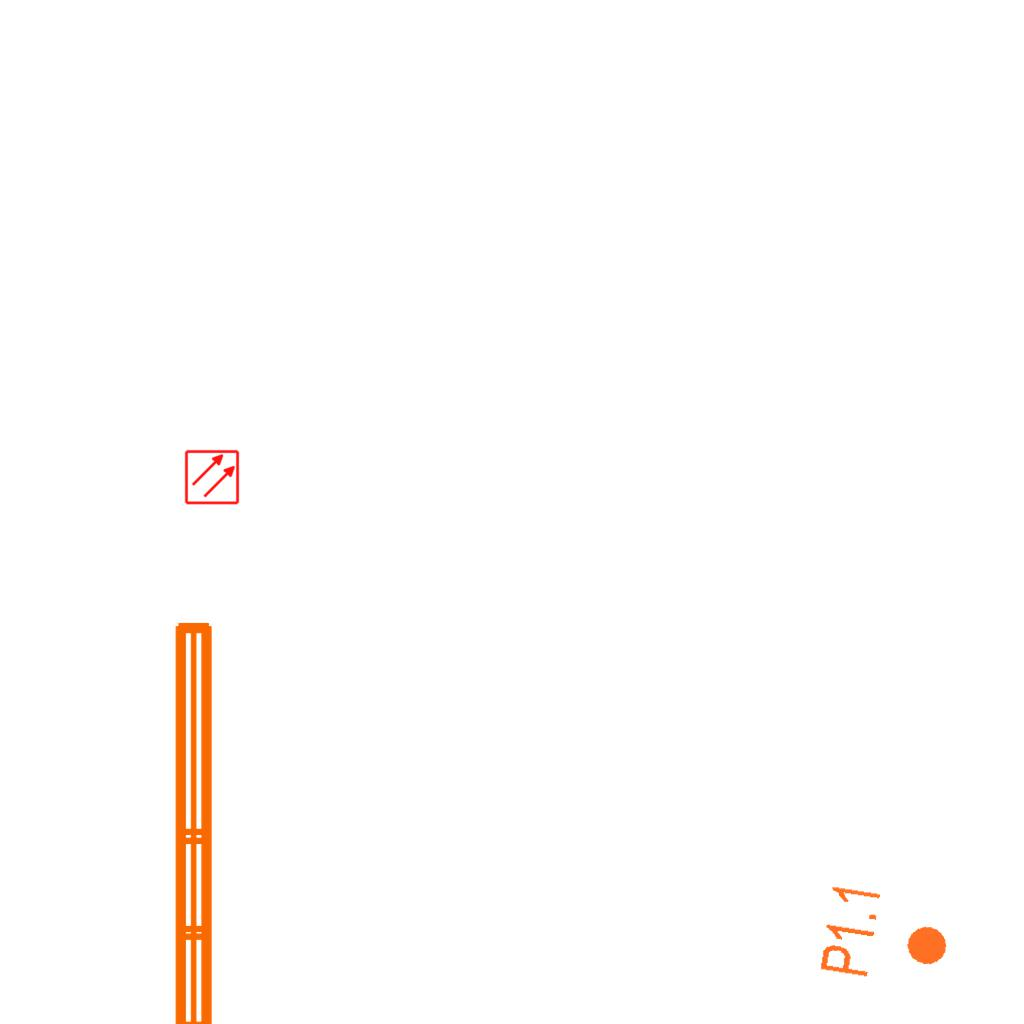Ambulanz_Pendelleuchte_LED: (163, 612, 275, 1024)
Downlight_LED_Einbauleuchten_Flur: (816, 880, 957, 992)
RMO_Rauchmelder_optischer: (184, 449, 240, 505)
